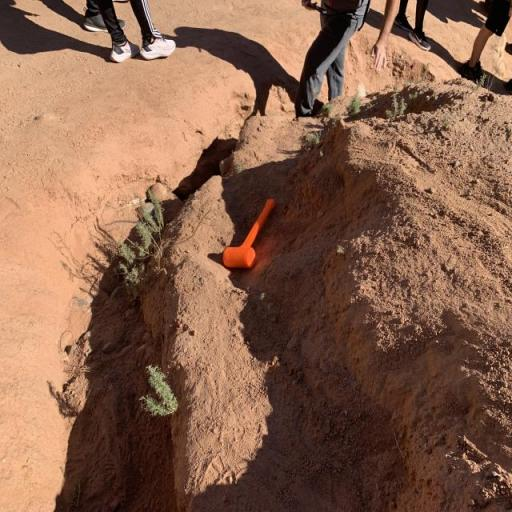mallet: (222, 196, 276, 270)
